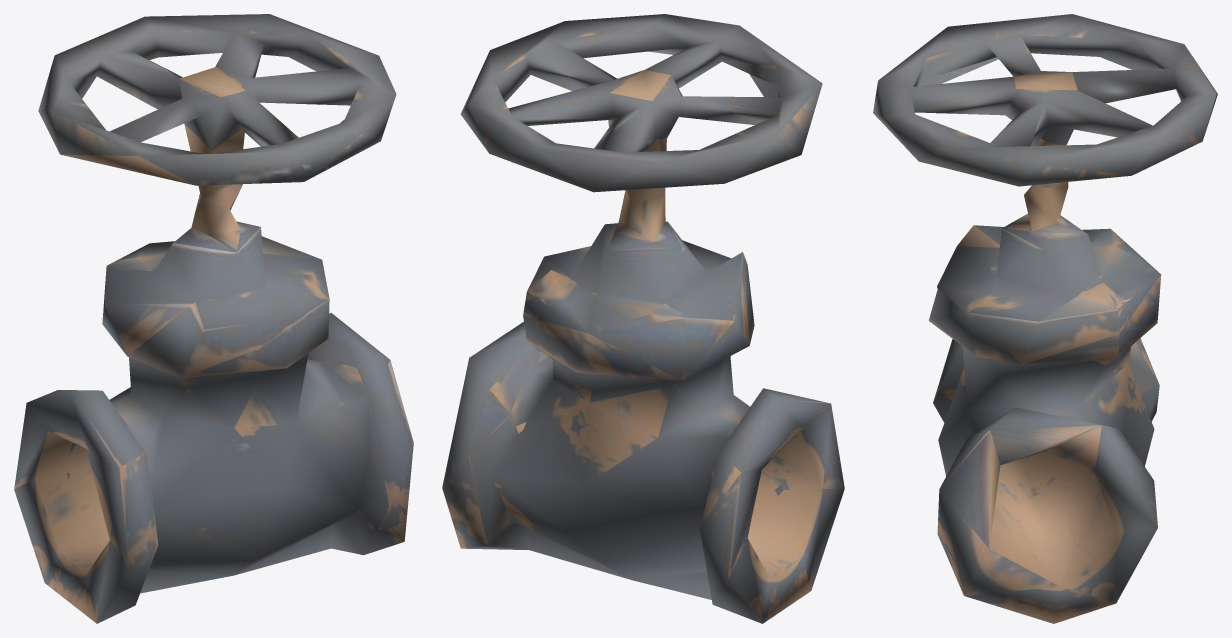
File: lhi_valve_wheel.glb
The picture shows the model from 3 angles, left to right: view 1: azimuth 30°, elevation 25°; view 2: azimuth 150°, elevation 25°; view 3: azimuth 270°, elevation 25°; orthographic projection. The views are drawn at different scales.
Visible parts, largest first — view 1: material; view 2: material; view 3: material.
Part boxes in pixels (x1,y1,x2,y2): material: (14,14,413,623); material: (442,14,844,623); material: (873,14,1217,623).
Bounding box in the file's own units: 0.6801 × 1.02 × 0.6716.
1 material, 1 textured.
